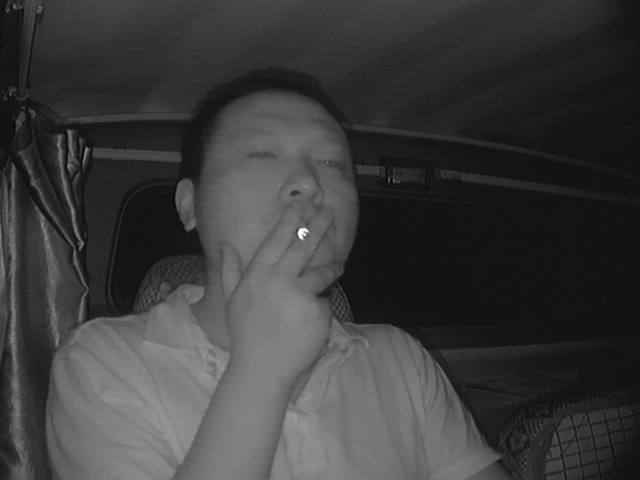hand: (255, 204, 343, 319)
